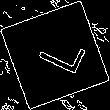L_NW: (25, 30, 85, 80)
